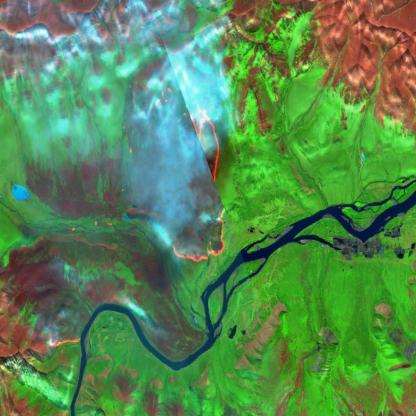fire: (170, 108, 225, 268), (48, 327, 89, 359)
